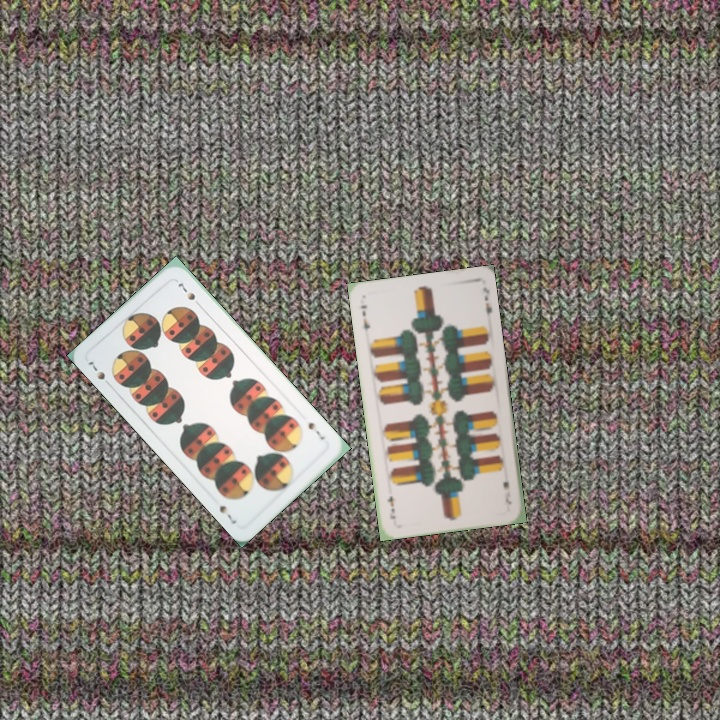E7: (357, 301, 373, 332), (499, 477, 514, 507)
S7: (84, 357, 114, 390), (304, 418, 328, 443)
